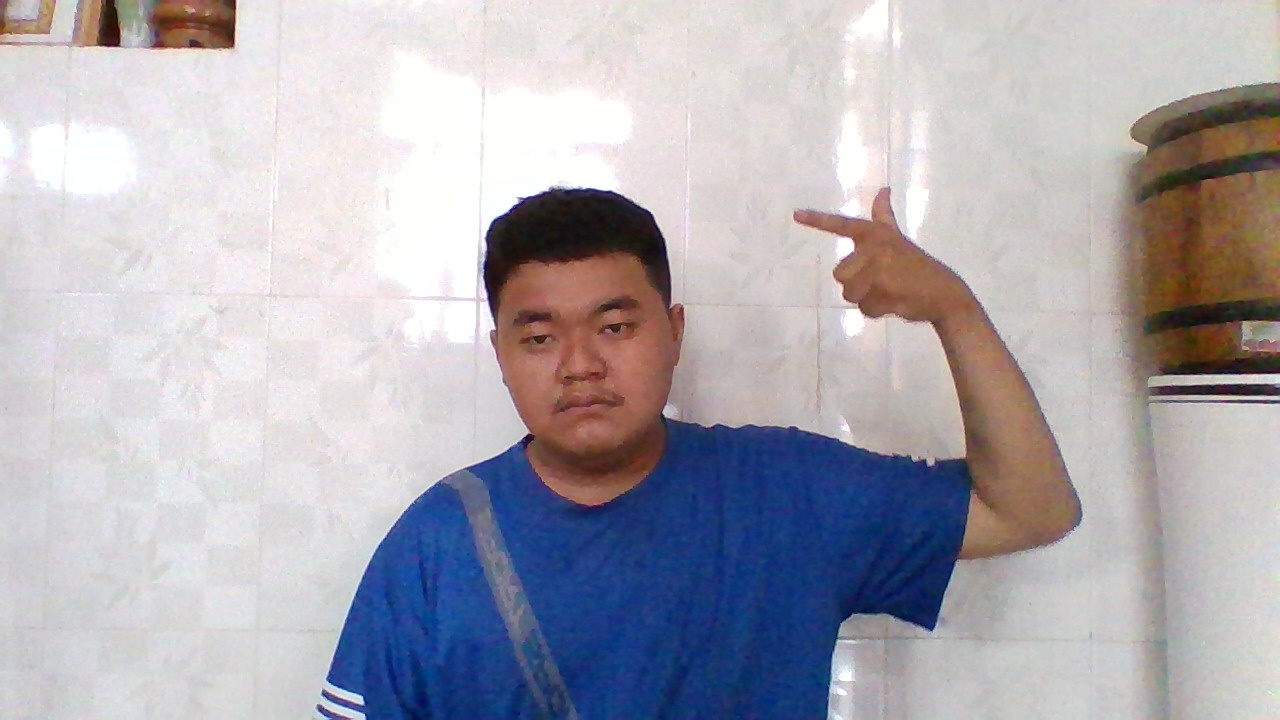G: (781, 179, 969, 329)
